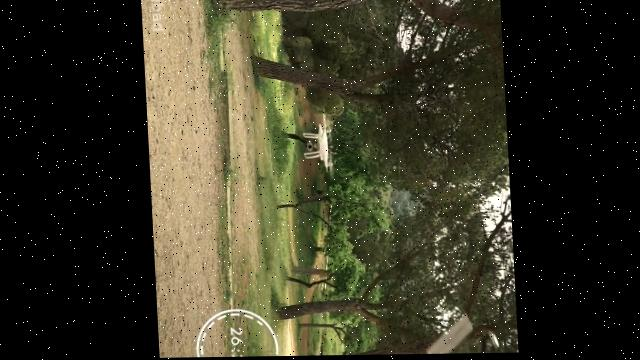drone: (297, 109, 336, 184)
